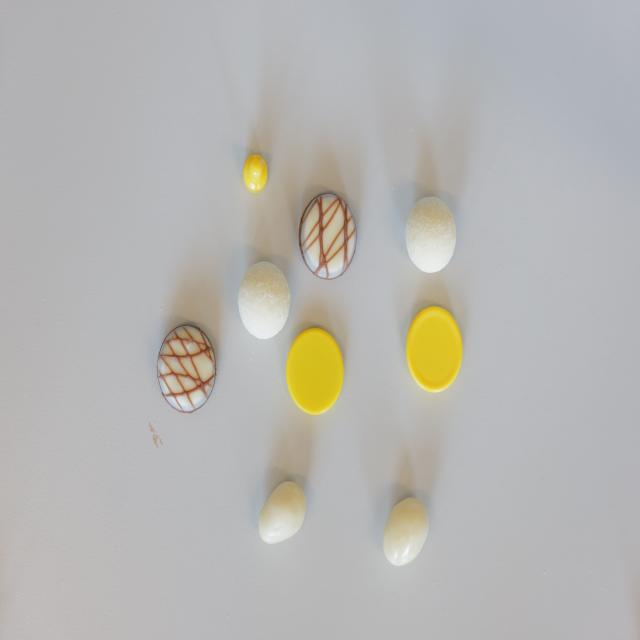Comtesse: (237, 261, 290, 341), (404, 196, 456, 273)
Creme_brulee: (158, 323, 216, 415), (299, 193, 357, 278)
Jelly_White: (383, 497, 429, 565), (258, 479, 306, 544)
